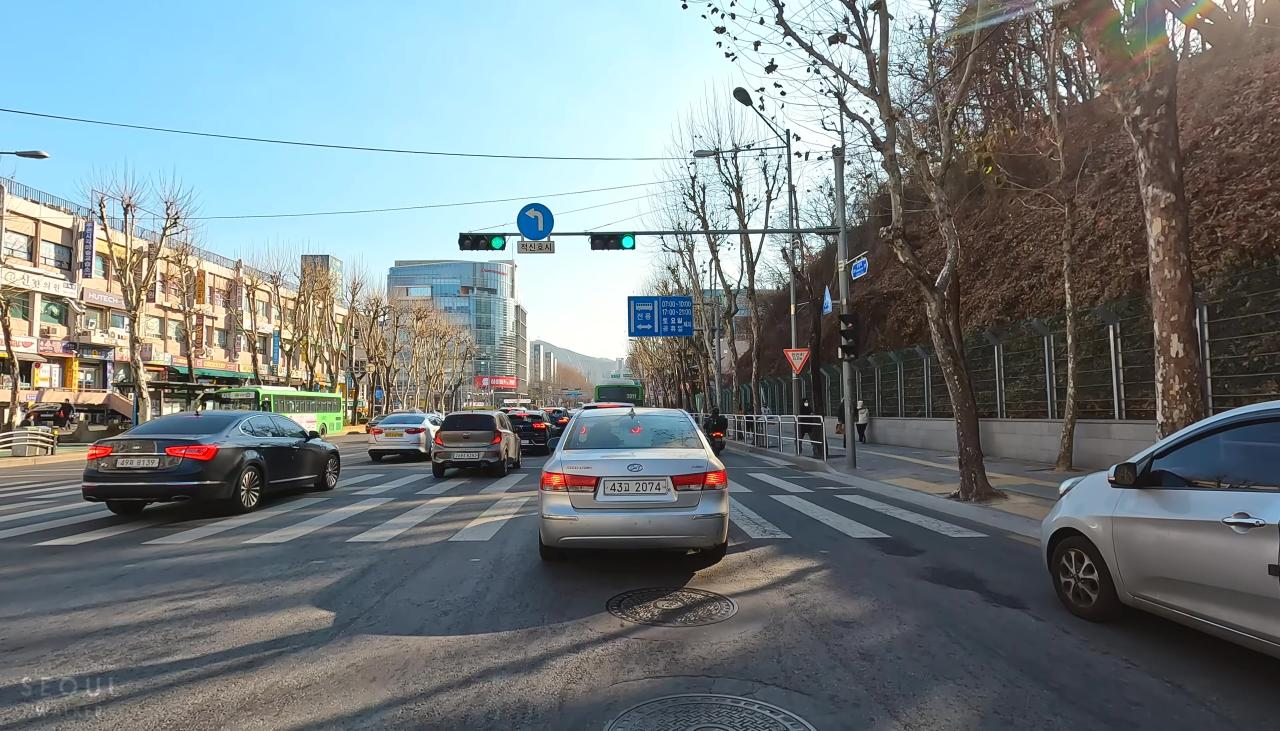Green Light: (489, 234, 504, 250), (620, 236, 634, 249)
